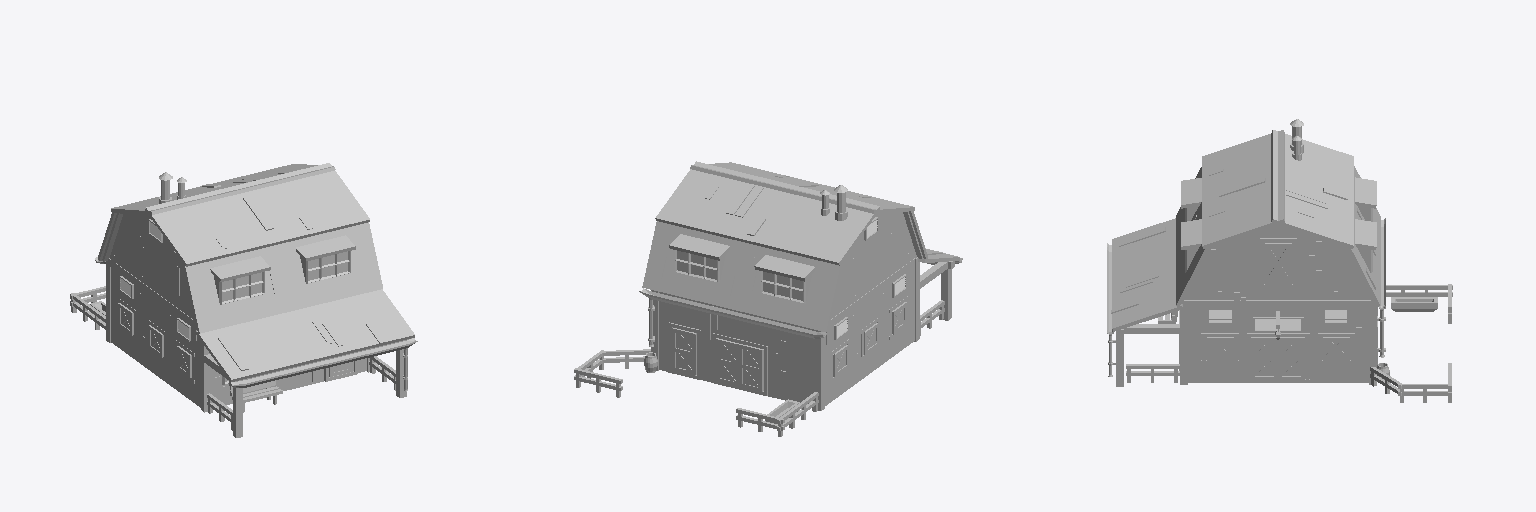
File: Barn.obj
3 renders of one model, left to right at view 1: azimuth 30°, elevation 25°; view 2: azimuth 150°, elevation 25°; view 3: azimuth 270°, elevation 25°, orthographic.
Visible parts, largest first — view 1: Barn; view 2: Barn; view 3: Barn.
Part boxes in pixels (x1,y1,x2,y2): Barn: (70, 163, 417, 437); Barn: (574, 161, 962, 436); Barn: (1107, 119, 1452, 402).
Bounding box in the file's own units: 64.82 × 55.83 × 89.93.